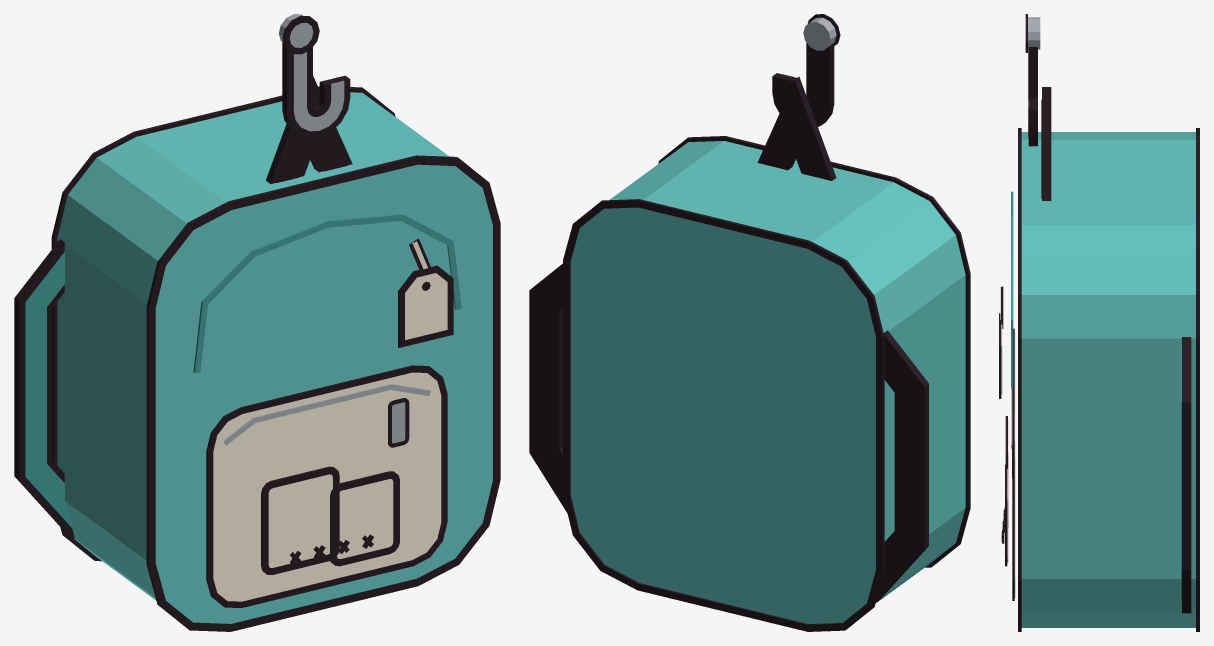
3 views of the same model, side by side, from view 1: azimuth 30°, elevation 25°; view 2: azimuth 150°, elevation 25°; view 3: azimuth 270°, elevation 25° (orthographic). The views are drawn at different scales.
Parts seen in each view (by area): view 1: Bag Holders proposal; view 2: Bag Holders proposal; view 3: Bag Holders proposal.
Boxes of the visible parts, x1=… form: Bag Holders proposal: x1=14, y1=14, x2=500, y2=631; Bag Holders proposal: x1=529, y1=14, x2=970, y2=631; Bag Holders proposal: x1=999, y1=14, x2=1199, y2=631.
Bounding box in the file's own units: 0.7974 × 1.04 × 0.3396.
